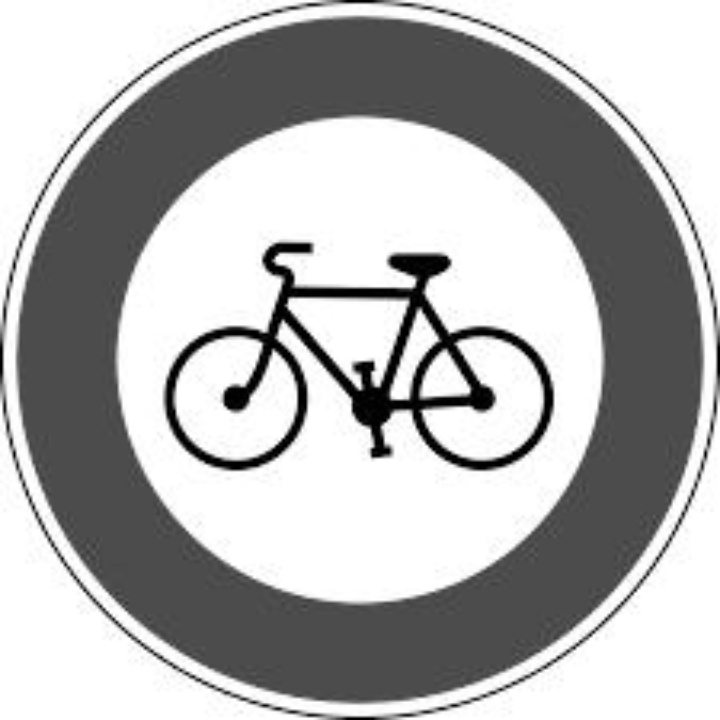bicycle: (146, 204, 581, 490)
